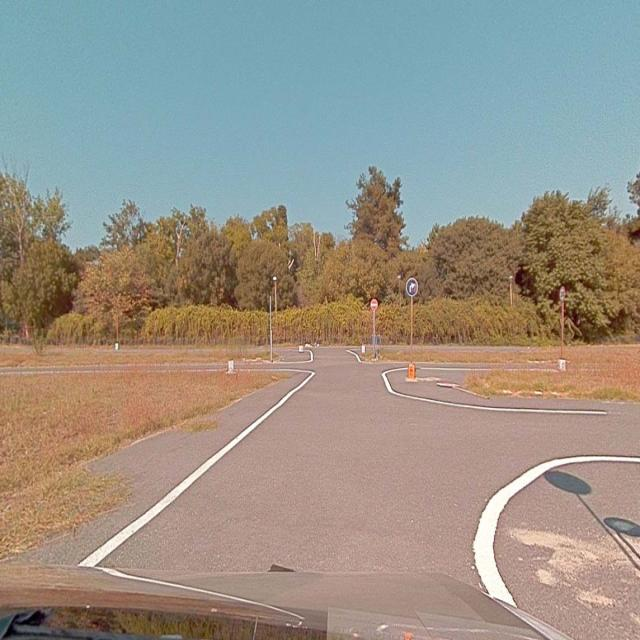girisyok: (370, 299, 378, 310)
sag: (407, 278, 417, 296)
